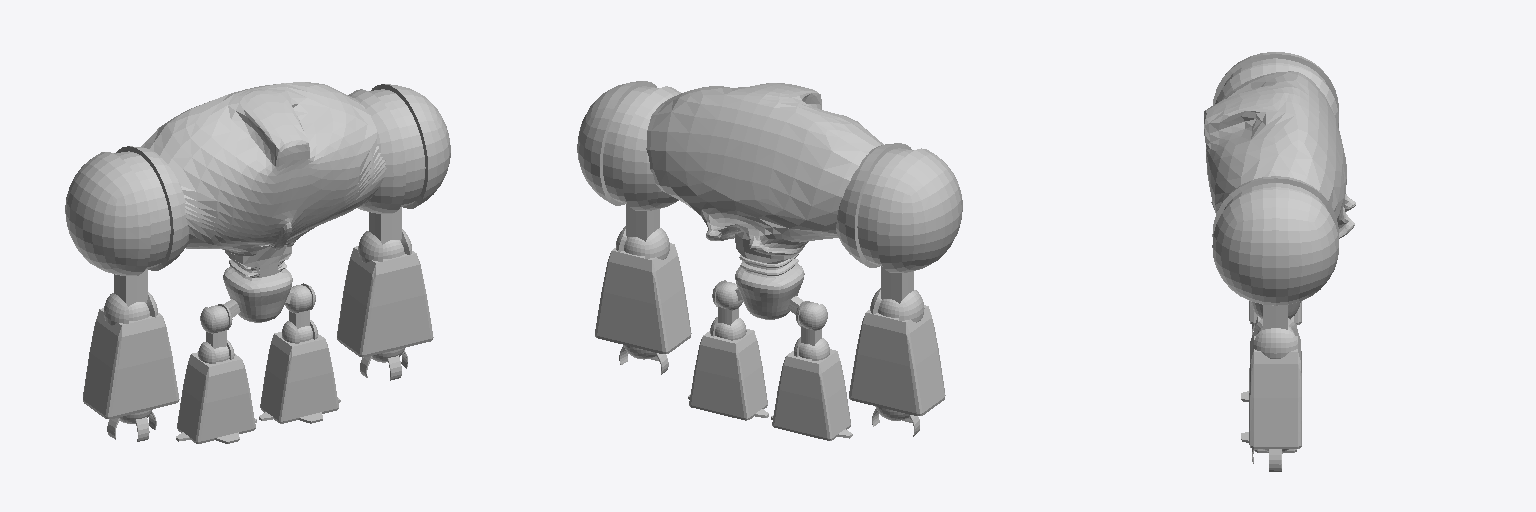
The model's file is Robot UV.obj.
3 views of the same model, side by side, from view 1: azimuth 30°, elevation 25°; view 2: azimuth 150°, elevation 25°; view 3: azimuth 270°, elevation 25° (orthographic).
Parts seen in each view (by area): view 1: Better_Robot_UV_Test:pCube17 Better_Robot_UV_Test:polySurface9, Better_Robot_UV_Test:pCube17 Better_Robot_UV_Test:polySurface8, Better_Robot_UV_Test:pCube17 Better_Robot_UV_Test:polySurface7, Better_Robot_UV_Test:pCube17 Better_Robot_UV_Test:polySurface3, Better_Robot_UV_Test:pCube17 Better_Robot_UV_Test:polySurface4, Better_Robot_UV_Test:pCube17 Better_Robot_UV_Test:polySurface18, Better_Robot_UV_Test:pCube17 Better_Robot_UV_Test:polySurface19, Better_Robot_UV_Test:pCube17 Better_Robot_UV_Test:polySurface22, Better_Robot_UV_Test:pCube17 Better_Robot_UV_Test:polySurface24, Better_Robot_UV_Test:pCube17 Better_Robot_UV_Test:polySurface6, Better_Robot_UV_Test:pCube17 Better_Robot_UV_Test:polySurface5, Better_Robot_UV_Test:pCube17 Better_Robot_UV_Test:polySurface23 (+2 smaller); view 2: Better_Robot_UV_Test:pCube17 Better_Robot_UV_Test:polySurface9, Better_Robot_UV_Test:pCube17 Better_Robot_UV_Test:polySurface8, Better_Robot_UV_Test:pCube17 Better_Robot_UV_Test:polySurface7, Better_Robot_UV_Test:pCube17 Better_Robot_UV_Test:polySurface3, Better_Robot_UV_Test:pCube17 Better_Robot_UV_Test:polySurface4, Better_Robot_UV_Test:pCube17 Better_Robot_UV_Test:polySurface18, Better_Robot_UV_Test:pCube17 Better_Robot_UV_Test:polySurface19, Better_Robot_UV_Test:pCube17 Better_Robot_UV_Test:polySurface22, Better_Robot_UV_Test:pCube17 Better_Robot_UV_Test:polySurface24, Better_Robot_UV_Test:pCube17 Better_Robot_UV_Test:polySurface6, Better_Robot_UV_Test:pCube17 Better_Robot_UV_Test:polySurface5, Better_Robot_UV_Test:pCube17 Better_Robot_UV_Test:polySurface23 (+2 smaller); view 3: Better_Robot_UV_Test:pCube17 Better_Robot_UV_Test:polySurface9, Better_Robot_UV_Test:pCube17 Better_Robot_UV_Test:polySurface7, Better_Robot_UV_Test:pCube17 Better_Robot_UV_Test:polySurface3, Better_Robot_UV_Test:pCube17 Better_Robot_UV_Test:polySurface8, Better_Robot_UV_Test:pCube17 Better_Robot_UV_Test:polySurface5.
Boxes of the visible parts, x1=… form: Better_Robot_UV_Test:pCube17 Better_Robot_UV_Test:polySurface9: x1=141, y1=82, x2=386, y2=255; Better_Robot_UV_Test:pCube17 Better_Robot_UV_Test:polySurface8: x1=65, y1=146, x2=189, y2=306; Better_Robot_UV_Test:pCube17 Better_Robot_UV_Test:polySurface7: x1=348, y1=84, x2=450, y2=244; Better_Robot_UV_Test:pCube17 Better_Robot_UV_Test:polySurface3: x1=337, y1=246, x2=433, y2=357; Better_Robot_UV_Test:pCube17 Better_Robot_UV_Test:polySurface4: x1=83, y1=308, x2=179, y2=419; Better_Robot_UV_Test:pCube17 Better_Robot_UV_Test:polySurface18: x1=259, y1=332, x2=340, y2=423; Better_Robot_UV_Test:pCube17 Better_Robot_UV_Test:polySurface19: x1=176, y1=352, x2=256, y2=443; Better_Robot_UV_Test:pCube17 Better_Robot_UV_Test:polySurface22: x1=223, y1=245, x2=292, y2=322; Better_Robot_UV_Test:pCube17 Better_Robot_UV_Test:polySurface24: x1=200, y1=299, x2=240, y2=348; Better_Robot_UV_Test:pCube17 Better_Robot_UV_Test:polySurface6: x1=104, y1=292, x2=157, y2=325; Better_Robot_UV_Test:pCube17 Better_Robot_UV_Test:polySurface5: x1=358, y1=229, x2=411, y2=262; Better_Robot_UV_Test:pCube17 Better_Robot_UV_Test:polySurface23: x1=285, y1=283, x2=315, y2=328; Better_Robot_UV_Test:pCube17 Better_Robot_UV_Test:polySurface9: x1=646, y1=83, x2=883, y2=255; Better_Robot_UV_Test:pCube17 Better_Robot_UV_Test:polySurface8: x1=836, y1=143, x2=962, y2=303; Better_Robot_UV_Test:pCube17 Better_Robot_UV_Test:polySurface7: x1=577, y1=81, x2=680, y2=241; Better_Robot_UV_Test:pCube17 Better_Robot_UV_Test:polySurface3: x1=595, y1=243, x2=691, y2=353; Better_Robot_UV_Test:pCube17 Better_Robot_UV_Test:polySurface4: x1=849, y1=305, x2=945, y2=415; Better_Robot_UV_Test:pCube17 Better_Robot_UV_Test:polySurface18: x1=688, y1=329, x2=768, y2=420; Better_Robot_UV_Test:pCube17 Better_Robot_UV_Test:polySurface19: x1=771, y1=349, x2=852, y2=440; Better_Robot_UV_Test:pCube17 Better_Robot_UV_Test:polySurface22: x1=735, y1=232, x2=804, y2=319; Better_Robot_UV_Test:pCube17 Better_Robot_UV_Test:polySurface24: x1=788, y1=296, x2=827, y2=345; Better_Robot_UV_Test:pCube17 Better_Robot_UV_Test:polySurface6: x1=870, y1=288, x2=924, y2=322; Better_Robot_UV_Test:pCube17 Better_Robot_UV_Test:polySurface5: x1=616, y1=226, x2=669, y2=259; Better_Robot_UV_Test:pCube17 Better_Robot_UV_Test:polySurface23: x1=712, y1=280, x2=742, y2=325; Better_Robot_UV_Test:pCube17 Better_Robot_UV_Test:polySurface9: x1=1204, y1=71, x2=1355, y2=238; Better_Robot_UV_Test:pCube17 Better_Robot_UV_Test:polySurface7: x1=1212, y1=176, x2=1338, y2=329; Better_Robot_UV_Test:pCube17 Better_Robot_UV_Test:polySurface3: x1=1249, y1=333, x2=1301, y2=448; Better_Robot_UV_Test:pCube17 Better_Robot_UV_Test:polySurface8: x1=1213, y1=52, x2=1338, y2=127; Better_Robot_UV_Test:pCube17 Better_Robot_UV_Test:polySurface5: x1=1253, y1=318, x2=1297, y2=358.
Size of the model in its own units: 8.31 by 7.08 by 3.01.